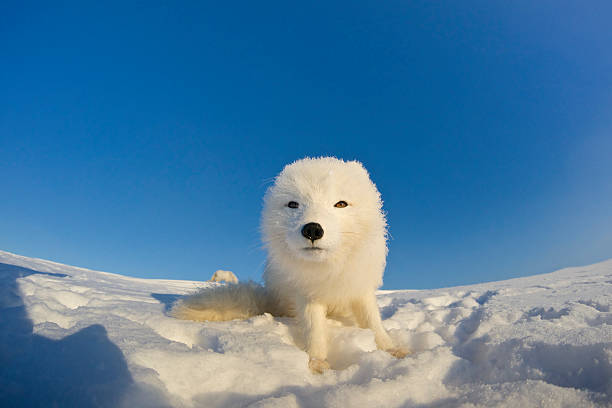arcticfox: (267, 164, 384, 293)
